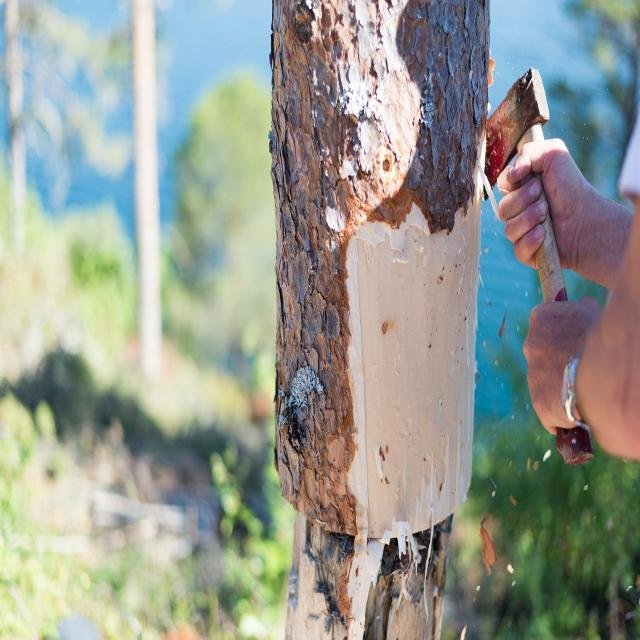Axe: (485, 68, 549, 196), (535, 215, 568, 302), (559, 430, 590, 463)
